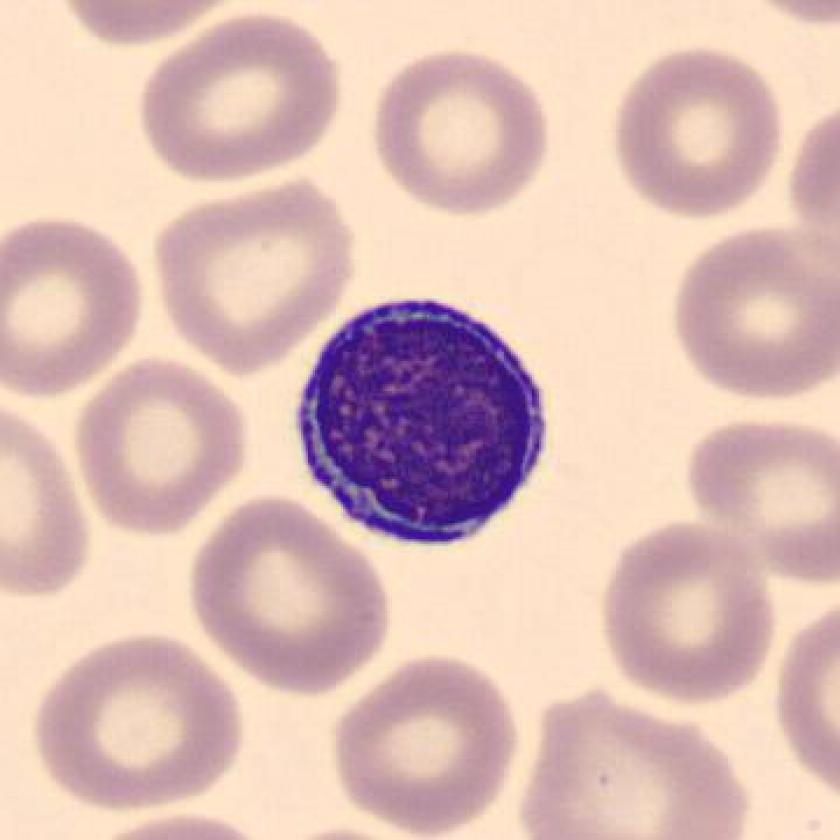lymphocyte: (283, 281, 561, 561)
